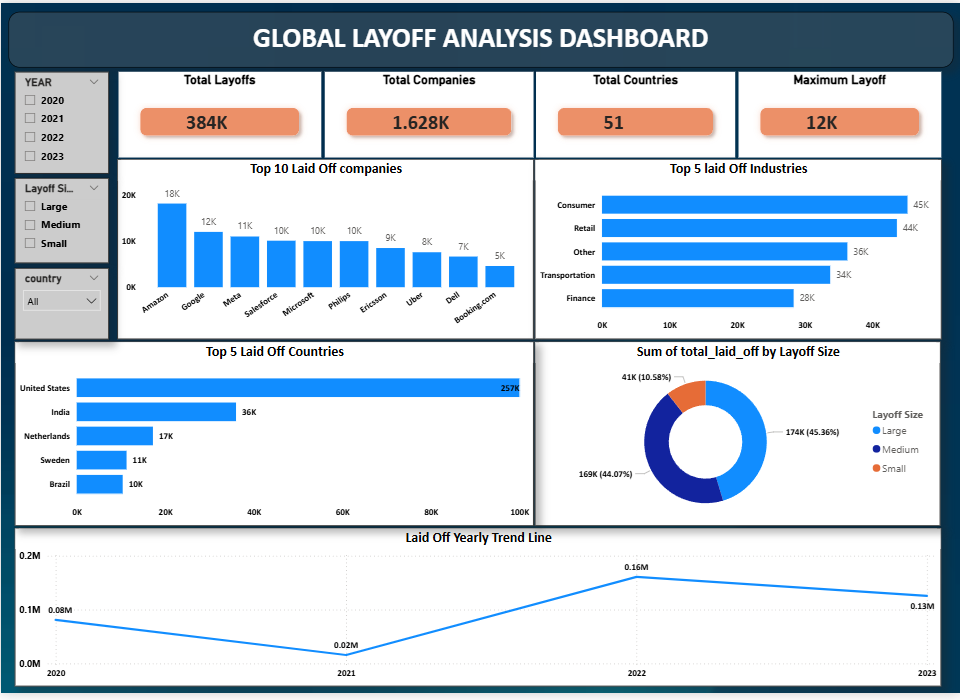

Layout of this report page (visuals, bound fields, positions):
{"tool":"powerbi","page":{"name":"Page 1","canvas":[1280,920],"ordinal":0},"visuals":[{"type":"textbox","box":[9.6,12.3,1259.7,74.1],"z":0},{"type":"cardVisual","title":"Total Layoffs","fields":{"Data":["Sum(layoffs_final.total_laid_off)"]},"box":[157.1,91.4,270,114.3],"z":1000},{"type":"cardVisual","title":"Total Companies","fields":{"Data":["Count(layoffs_final.company)"]},"box":[431,91.4,278.6,114.3],"z":2000},{"type":"cardVisual","title":"Total Countries","fields":{"Data":["Count(layoffs_final.country)"]},"box":[713.3,91.4,265.7,114.3],"z":3000},{"type":"lineChart","title":"Laid Off Yearly Trend Line","fields":{"Y":["Sum(layoffs_final.total_laid_off)"],"Category":["layoffs_final.YEAR"]},"box":[17.8,700,1235.6,211.1],"z":4000},{"type":"columnChart","title":"Top 10 Laid Off companies","fields":{"Category":["layoffs_final.company"],"Y":["Sum(layoffs_final.total_laid_off)"]},"box":[154.4,208.9,555.6,240],"z":5000},{"type":"barChart","title":"Top 5 laid Off Industries","fields":{"Category":["layoffs_final.industry"],"Y":["Sum(layoffs_final.total_laid_off)"]},"box":[711.1,208.9,542.2,240],"z":6000},{"type":"donutChart","fields":{"Category":["layoffs_final.Layoff Size"],"Y":["Sum(layoffs_final.total_laid_off)"]},"box":[712.2,451.1,541.1,245.6],"z":7000},{"type":"slicer","title":"YEAR","fields":{"Values":["layoffs_final.YEAR"]},"box":[18.1,91.4,125.5,136.3],"z":8000},{"type":"barChart","title":"Top 5 Laid Off Countries","fields":{"Category":["layoffs_final.country"],"Y":["Sum(layoffs_final.total_laid_off)"]},"box":[18.9,451.1,692.2,245.6],"z":9000},{"type":"slicer","fields":{"Values":["layoffs_final.Layoff Size"]},"box":[18.1,234,125.5,113.4],"z":10000},{"type":"slicer","fields":{"Values":["layoffs_final.country"]},"box":[18.1,353.5,125.5,95.3],"z":11000},{"type":"cardVisual","title":"Maximum Layoff","fields":{"Data":["layoffs_final.Max Layoff"]},"box":[982.9,91.4,270,114.3],"z":12000}]}

Visuals, with their boxes in screenshot pixels (x1, y1, x2, y2), scaled from the page's 1280x920 canvas onto the 960x700 screenshot:
textbox: region(7, 9, 952, 66)
"Total Layoffs" cardVisual: region(118, 70, 320, 157)
"Total Companies" cardVisual: region(323, 70, 532, 157)
"Total Countries" cardVisual: region(535, 70, 734, 157)
"Laid Off Yearly Trend Line" lineChart: region(13, 533, 940, 693)
"Top 10 Laid Off companies" columnChart: region(116, 159, 532, 342)
"Top 5 laid Off Industries" barChart: region(533, 159, 940, 342)
donutChart - layoffs_final.Layoff Size x Sum(layoffs_final.total_laid_off): region(534, 343, 940, 530)
"YEAR" slicer: region(14, 70, 108, 173)
"Top 5 Laid Off Countries" barChart: region(14, 343, 533, 530)
slicer - layoffs_final.Layoff Size: region(14, 178, 108, 264)
slicer - layoffs_final.country: region(14, 269, 108, 341)
"Maximum Layoff" cardVisual: region(737, 70, 940, 157)
